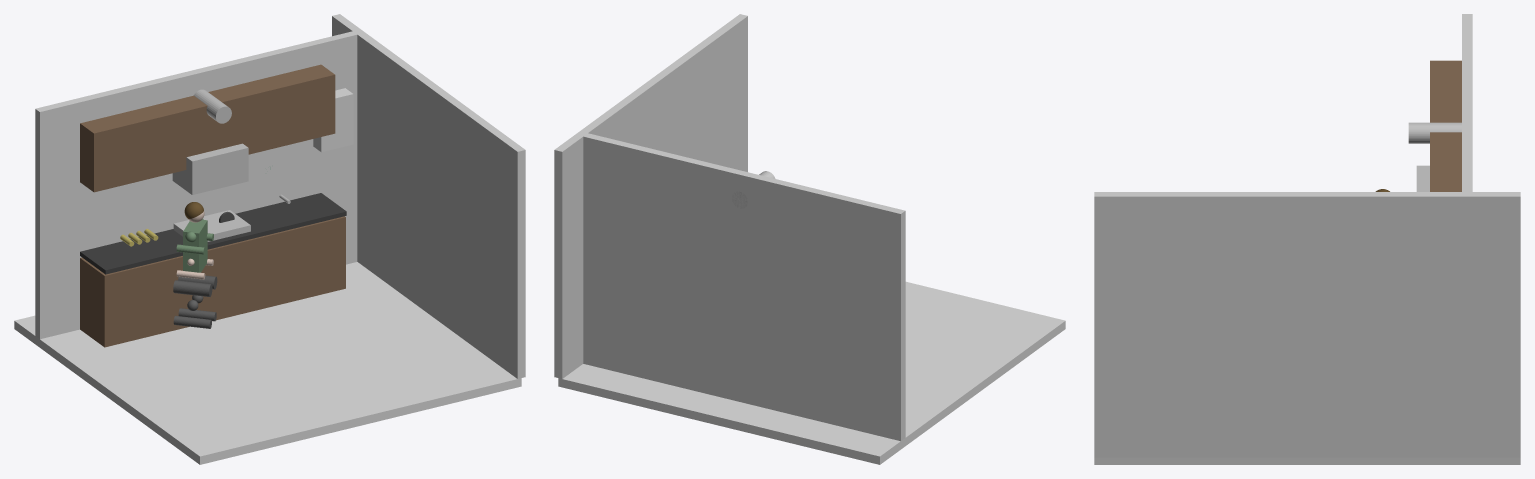
Rendered from kitchen.glb.
The picture shows the model from 3 angles, left to right: view 1: azimuth 30°, elevation 25°; view 2: azimuth 150°, elevation 25°; view 3: azimuth 270°, elevation 25°; orthographic projection. The views are drawn at different scales.
Visible parts, largest first — view 1: world, kitchen_back_wall, lower_cabinets, overhead_cabinets, granite_countertop, chimney_hood, water_purifier, gas_stove, kitchen_human_torso, chimney_pipe; view 2: kitchen_back_wall, world; view 3: world, overhead_cabinets, kitchen_back_wall, chimney_pipe.
Boxes of the visible parts, x1,y1,x2,y2 form: world: [14, 14, 525, 464]; kitchen_back_wall: [35, 30, 360, 339]; lower_cabinets: [80, 216, 345, 347]; overhead_cabinets: [80, 64, 335, 192]; granite_countertop: [80, 193, 346, 274]; chimney_hood: [172, 143, 248, 194]; water_purifier: [313, 88, 353, 152]; gas_stove: [173, 210, 250, 241]; kitchen_human_torso: [183, 219, 207, 272]; chimney_pipe: [194, 89, 231, 123]; kitchen_back_wall: [579, 132, 905, 441]; world: [554, 14, 1065, 464]; world: [1094, 189, 1520, 464]; overhead_cabinets: [1430, 60, 1461, 191]; kitchen_back_wall: [1462, 14, 1472, 194]; chimney_pipe: [1408, 122, 1461, 143].
Size of the model in its own units: 4.05 by 2.8 by 4.
